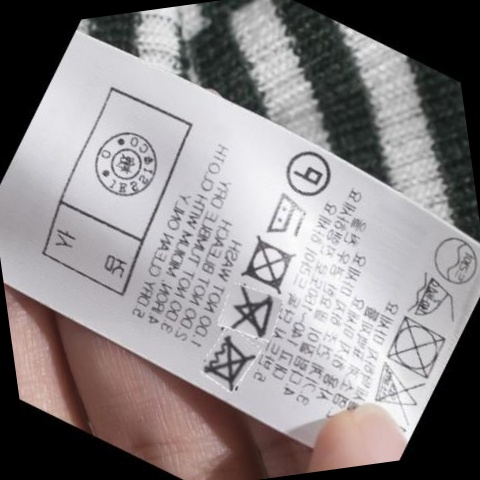DN_bleach: (222, 283, 278, 341)
DN_tumble_dry: (239, 236, 299, 291)
DN_wash: (197, 337, 254, 392)
dry_clean_any_solvent_except_trichloroethylene: (278, 143, 332, 200)
iron_medium: (260, 191, 310, 241)
